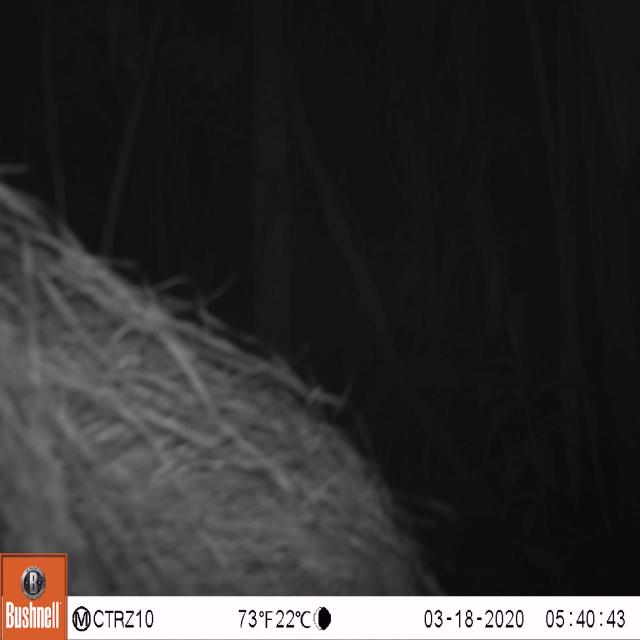Giant Anteater: (0, 174, 434, 556)
